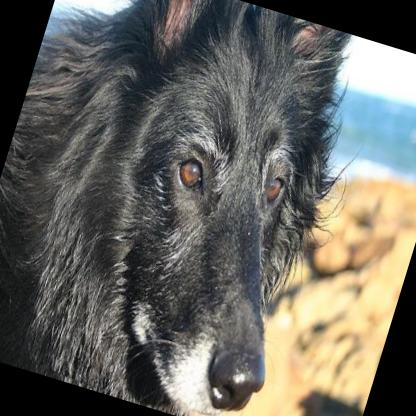groenendael: (0, 0, 391, 416)
